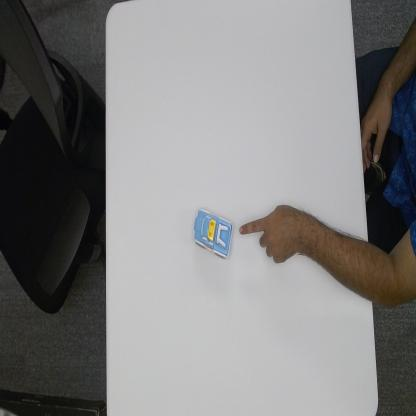Arm: (311, 206, 416, 310)
Car: (190, 204, 234, 258)
Hand: (238, 200, 304, 266)
